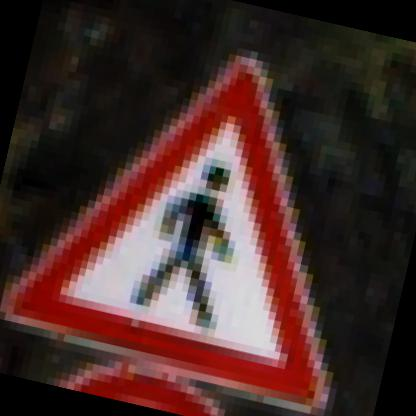crosswalk: (0, 27, 391, 415)
